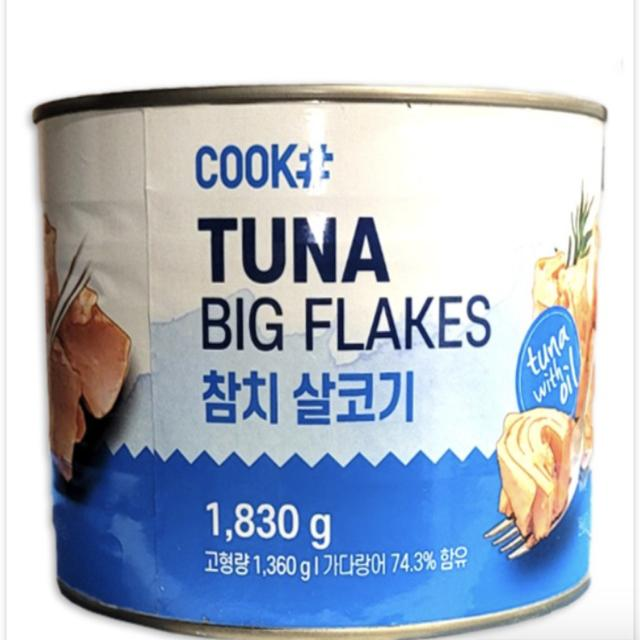recyclable: (24, 59, 618, 640)
